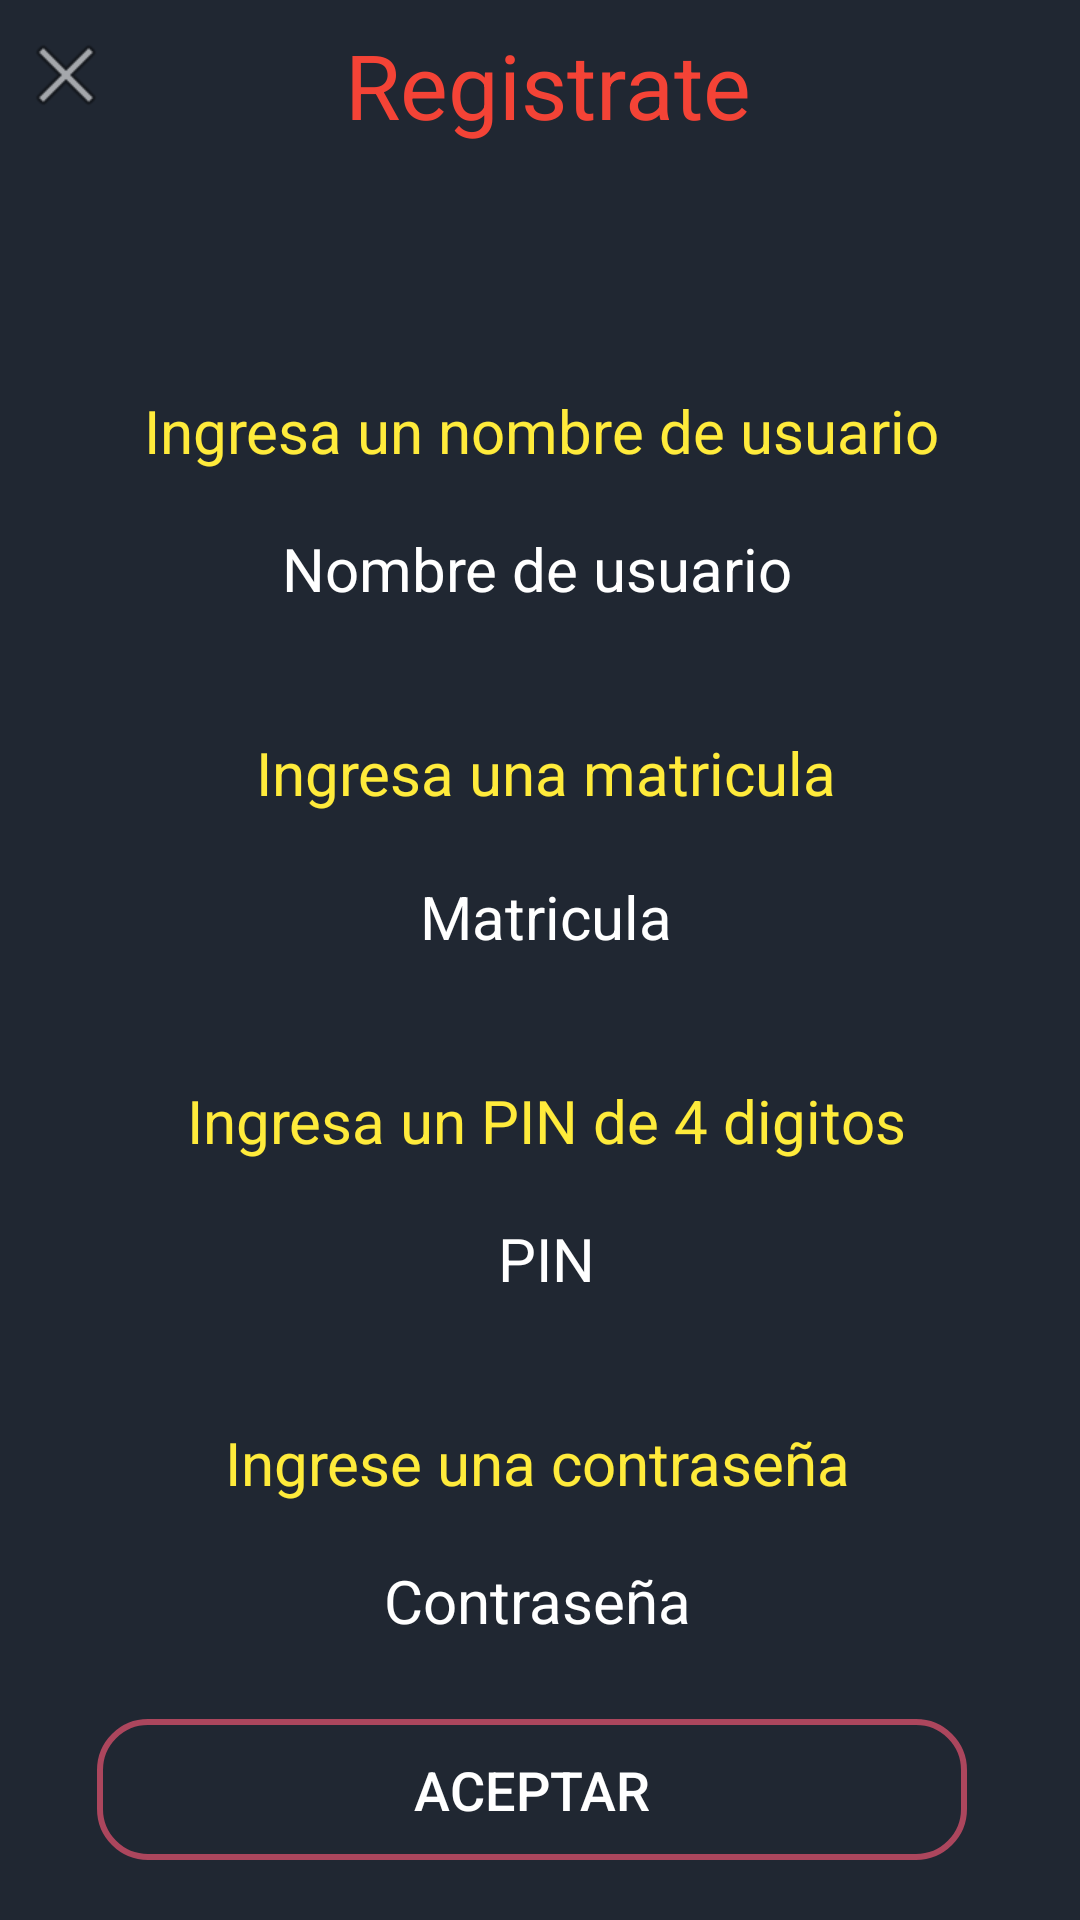

Where to tap for icons on this 1080px x 1920px app screen, as (x=x, y=y):
close clear cancel: (x=66, y=75)
